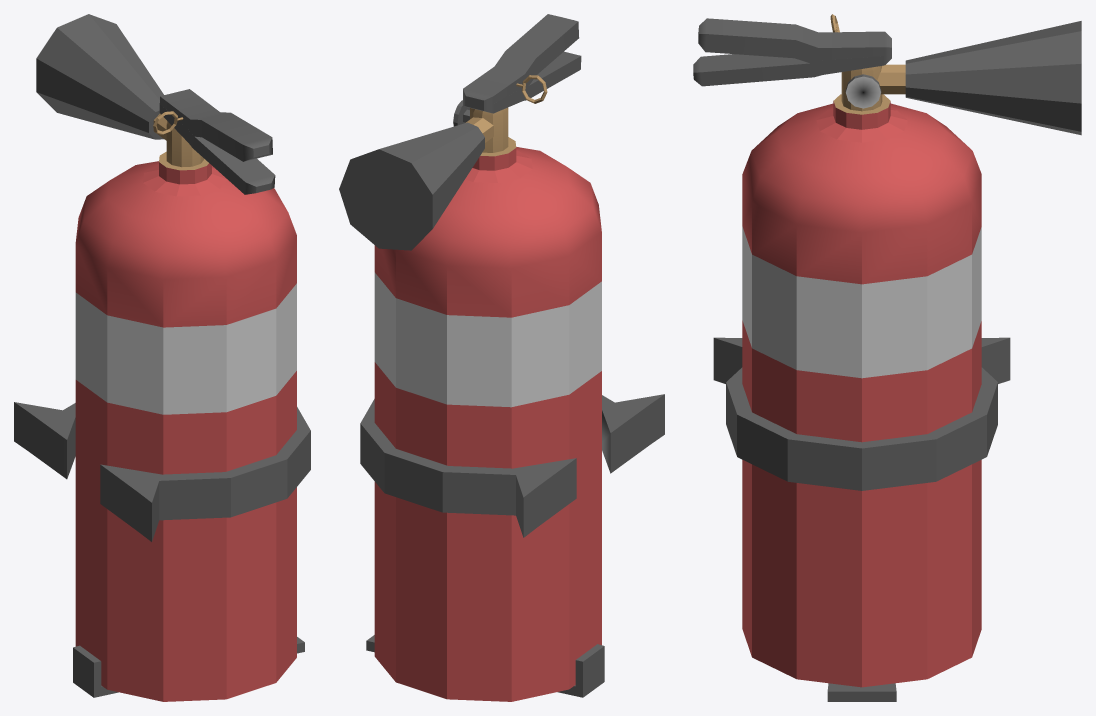
File: extinguisher.glb
3 views of the same model, side by side, from view 1: azimuth 30°, elevation 25°; view 2: azimuth 150°, elevation 25°; view 3: azimuth 270°, elevation 25° (orthographic). The views are drawn at different scales.
Parts seen in each view (by area): view 1: Extinguisher_Mesh.003, Top_Bolt_Mesh.001, Bottom_bolt_Mesh.002; view 2: Extinguisher_Mesh.003, Top_Bolt_Mesh.001, Bottom_bolt_Mesh.002; view 3: Extinguisher_Mesh.003, Top_Bolt_Mesh.001, Bottom_bolt_Mesh.002.
Boxes of the visible parts, bbox=[...] form: Extinguisher_Mesh.003: bbox=[36, 14, 296, 701]; Top_Bolt_Mesh.001: bbox=[14, 402, 310, 541]; Bottom_bolt_Mesh.002: bbox=[73, 637, 304, 697]; Extinguisher_Mesh.003: bbox=[339, 14, 601, 701]; Top_Bolt_Mesh.001: bbox=[360, 394, 664, 537]; Bottom_bolt_Mesh.002: bbox=[366, 635, 604, 697]; Extinguisher_Mesh.003: bbox=[693, 14, 1081, 687]; Top_Bolt_Mesh.001: bbox=[713, 337, 1010, 490]; Bottom_bolt_Mesh.002: bbox=[827, 683, 896, 701].
Size of the model in its own units: 0.2026 by 0.53 by 0.3004.
